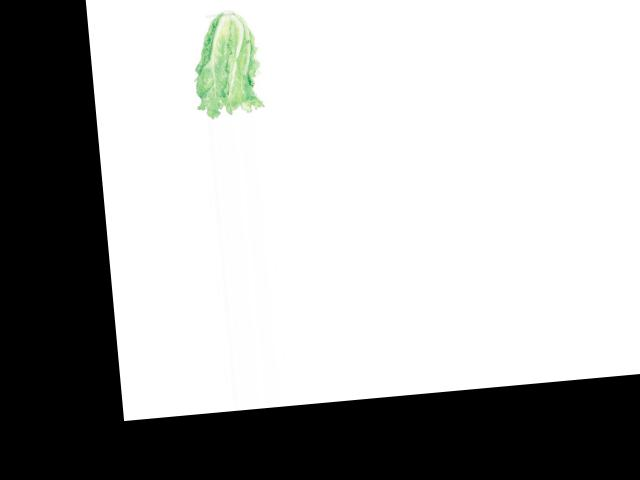lettuce: (188, 10, 267, 120)
